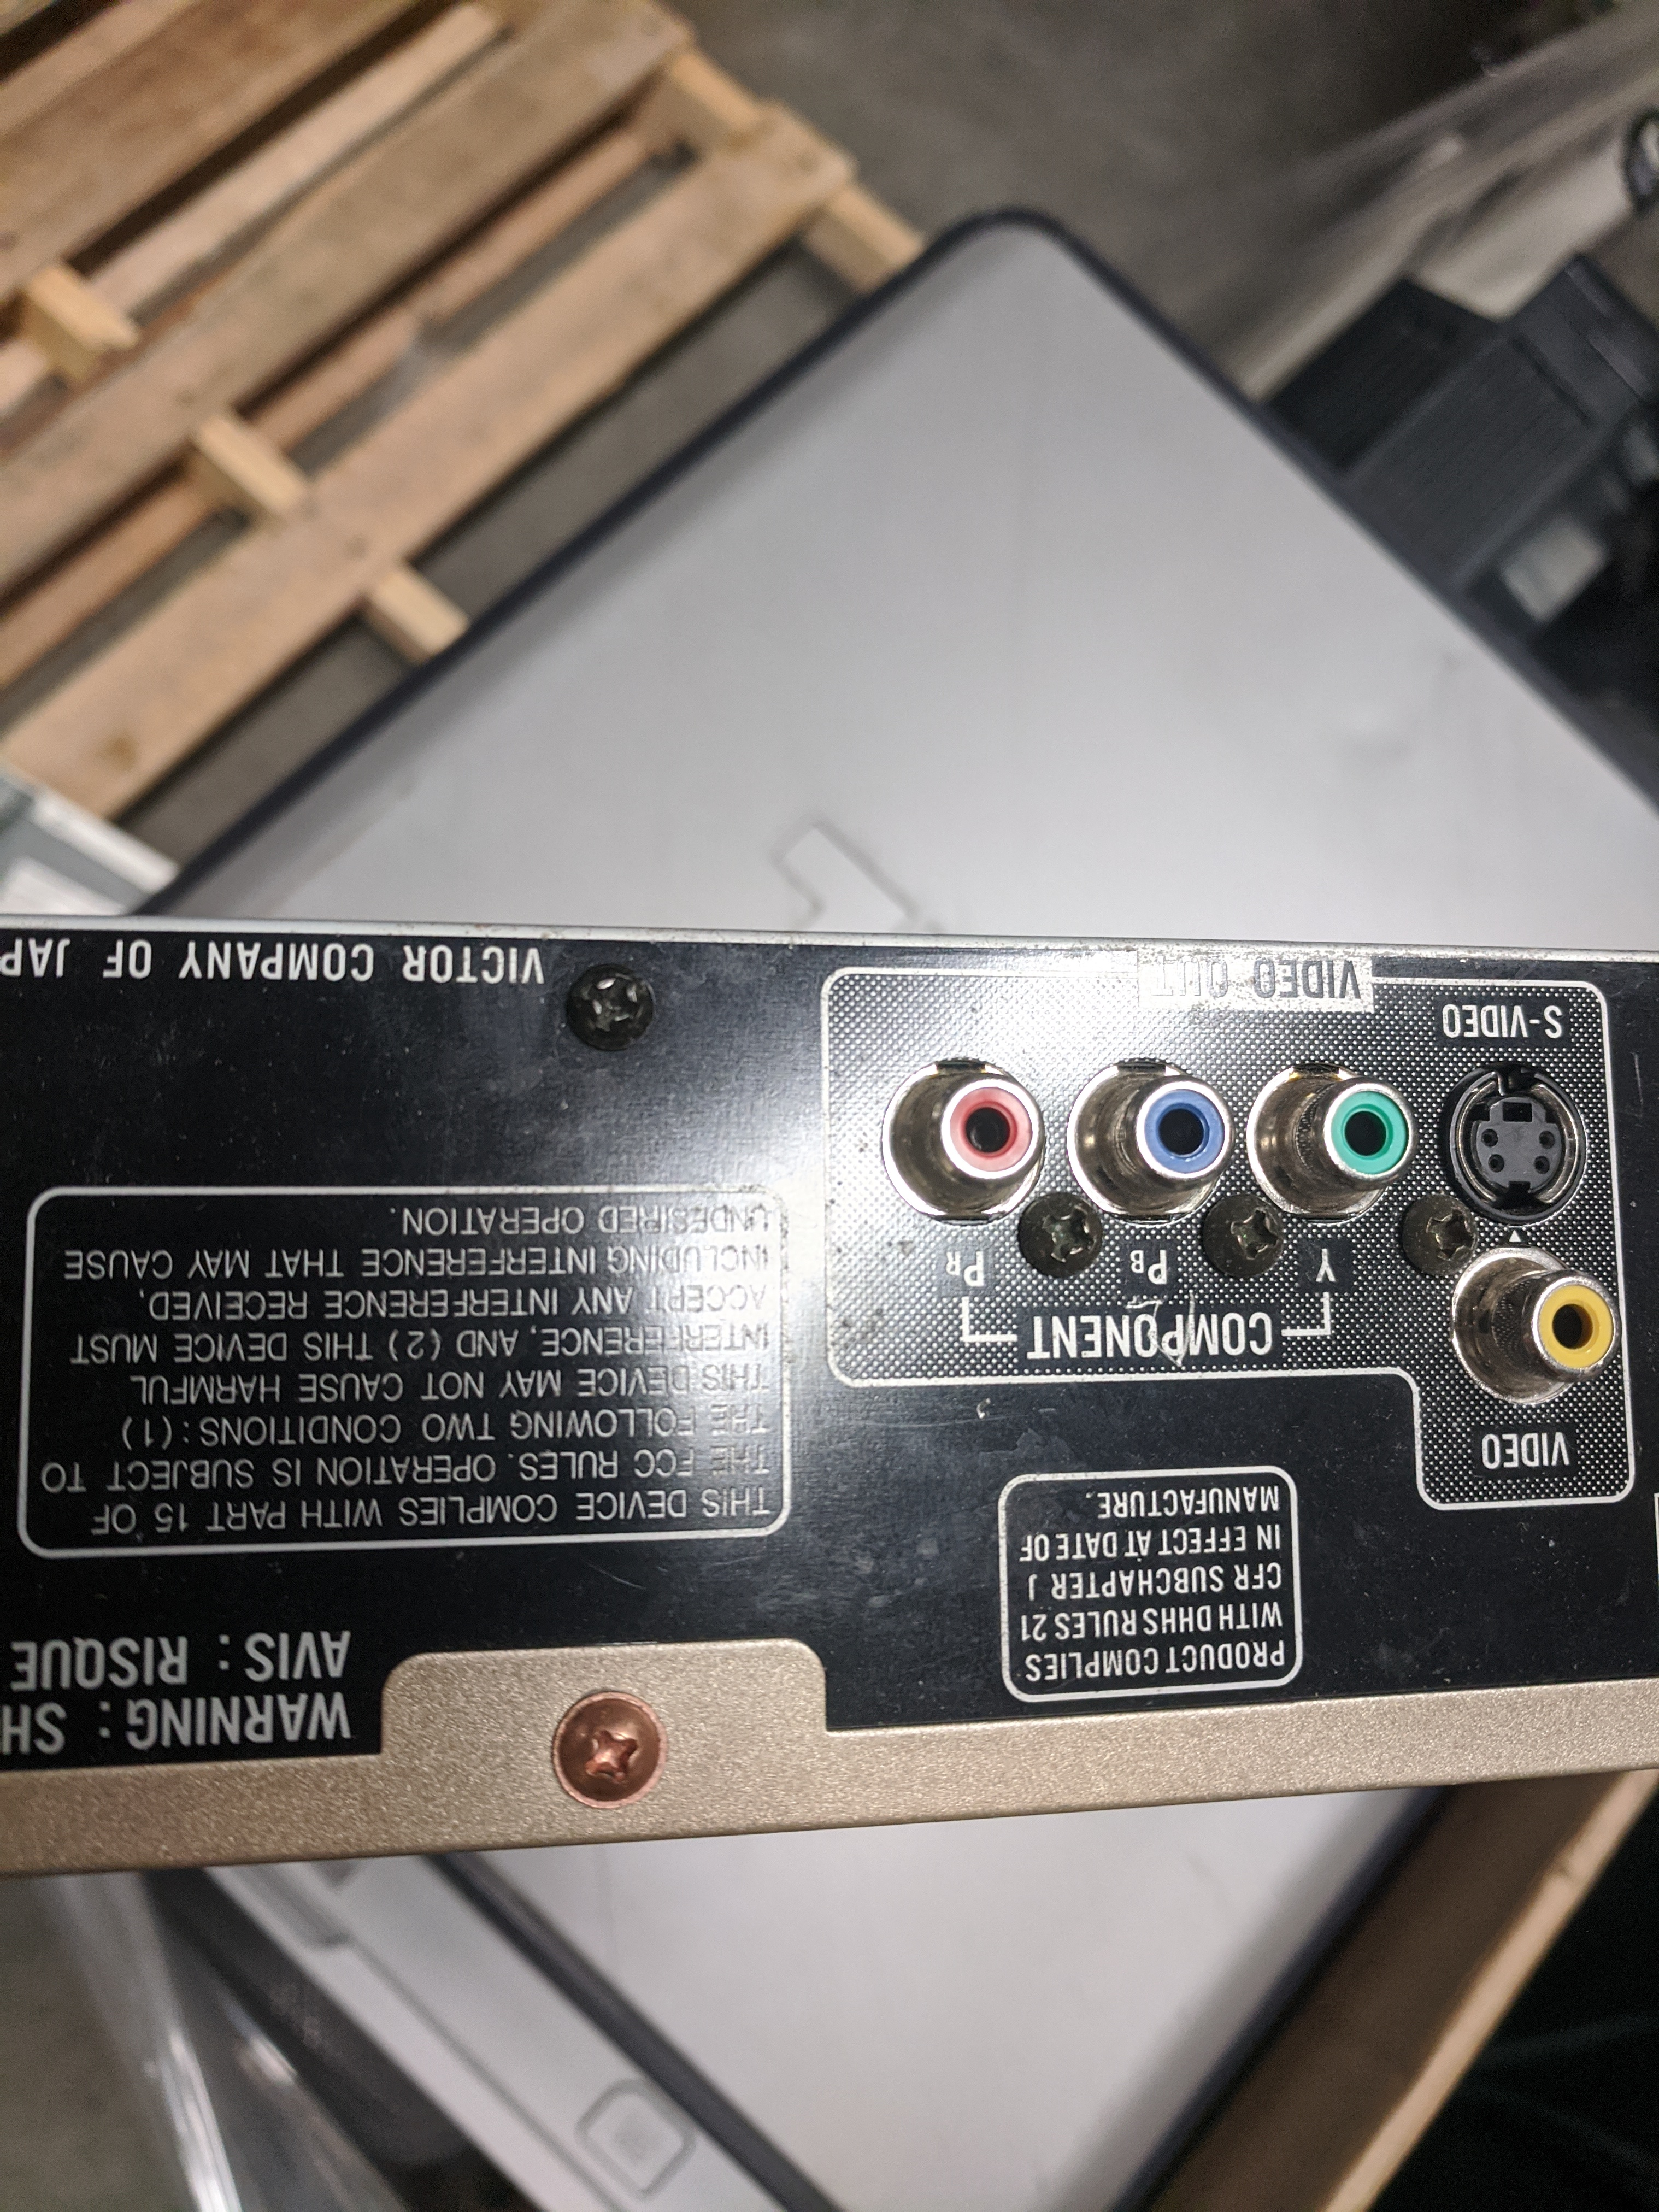cross_recessed_screw: (551, 1691, 657, 1797), (554, 944, 645, 1055), (1007, 1169, 1103, 1273), (1201, 1162, 1288, 1273), (1382, 1177, 1481, 1271)
